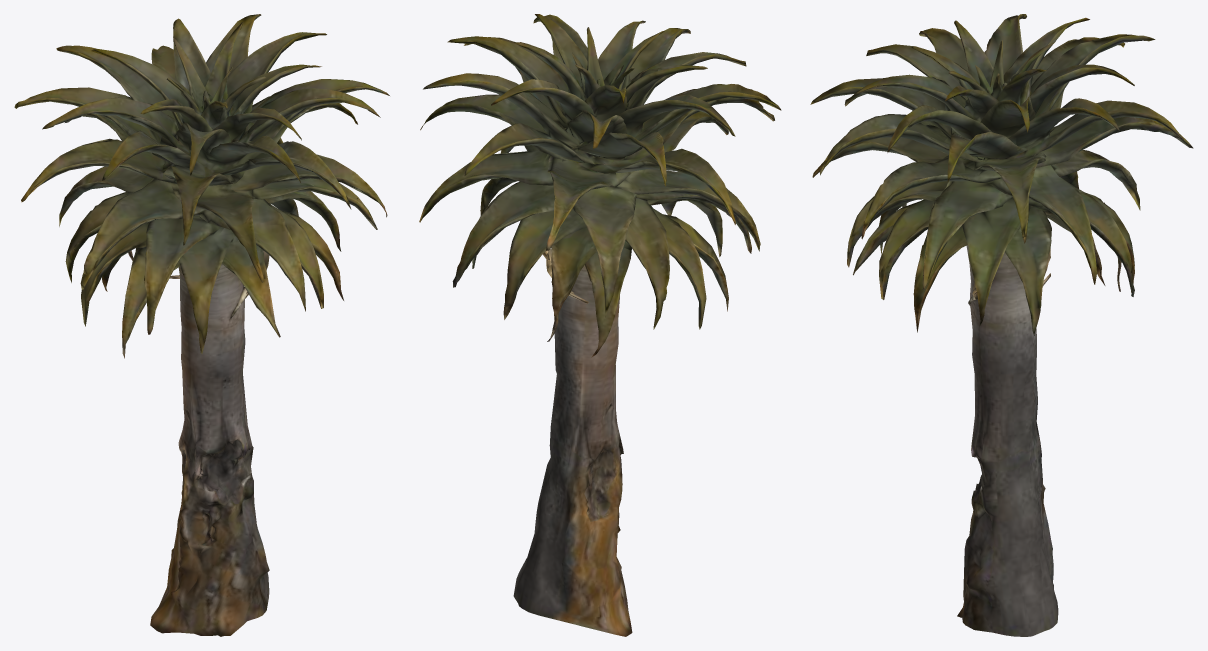
File: tree-quiver-02.7317a0b4.glb
The picture shows the model from 3 angles, left to right: view 1: azimuth 30°, elevation 25°; view 2: azimuth 150°, elevation 25°; view 3: azimuth 270°, elevation 25°; orthographic projection.
Parts seen in each view (by area): view 1: model; view 2: model; view 3: model.
Part boxes in pixels (box(x1,y1,x2,y2)): model: box(14, 14, 389, 636); model: box(419, 14, 781, 636); model: box(810, 14, 1193, 636).
Size of the model in its own units: 0.8716 by 1.47 by 0.8805.
Materials: 1 (1 with a texture image).
